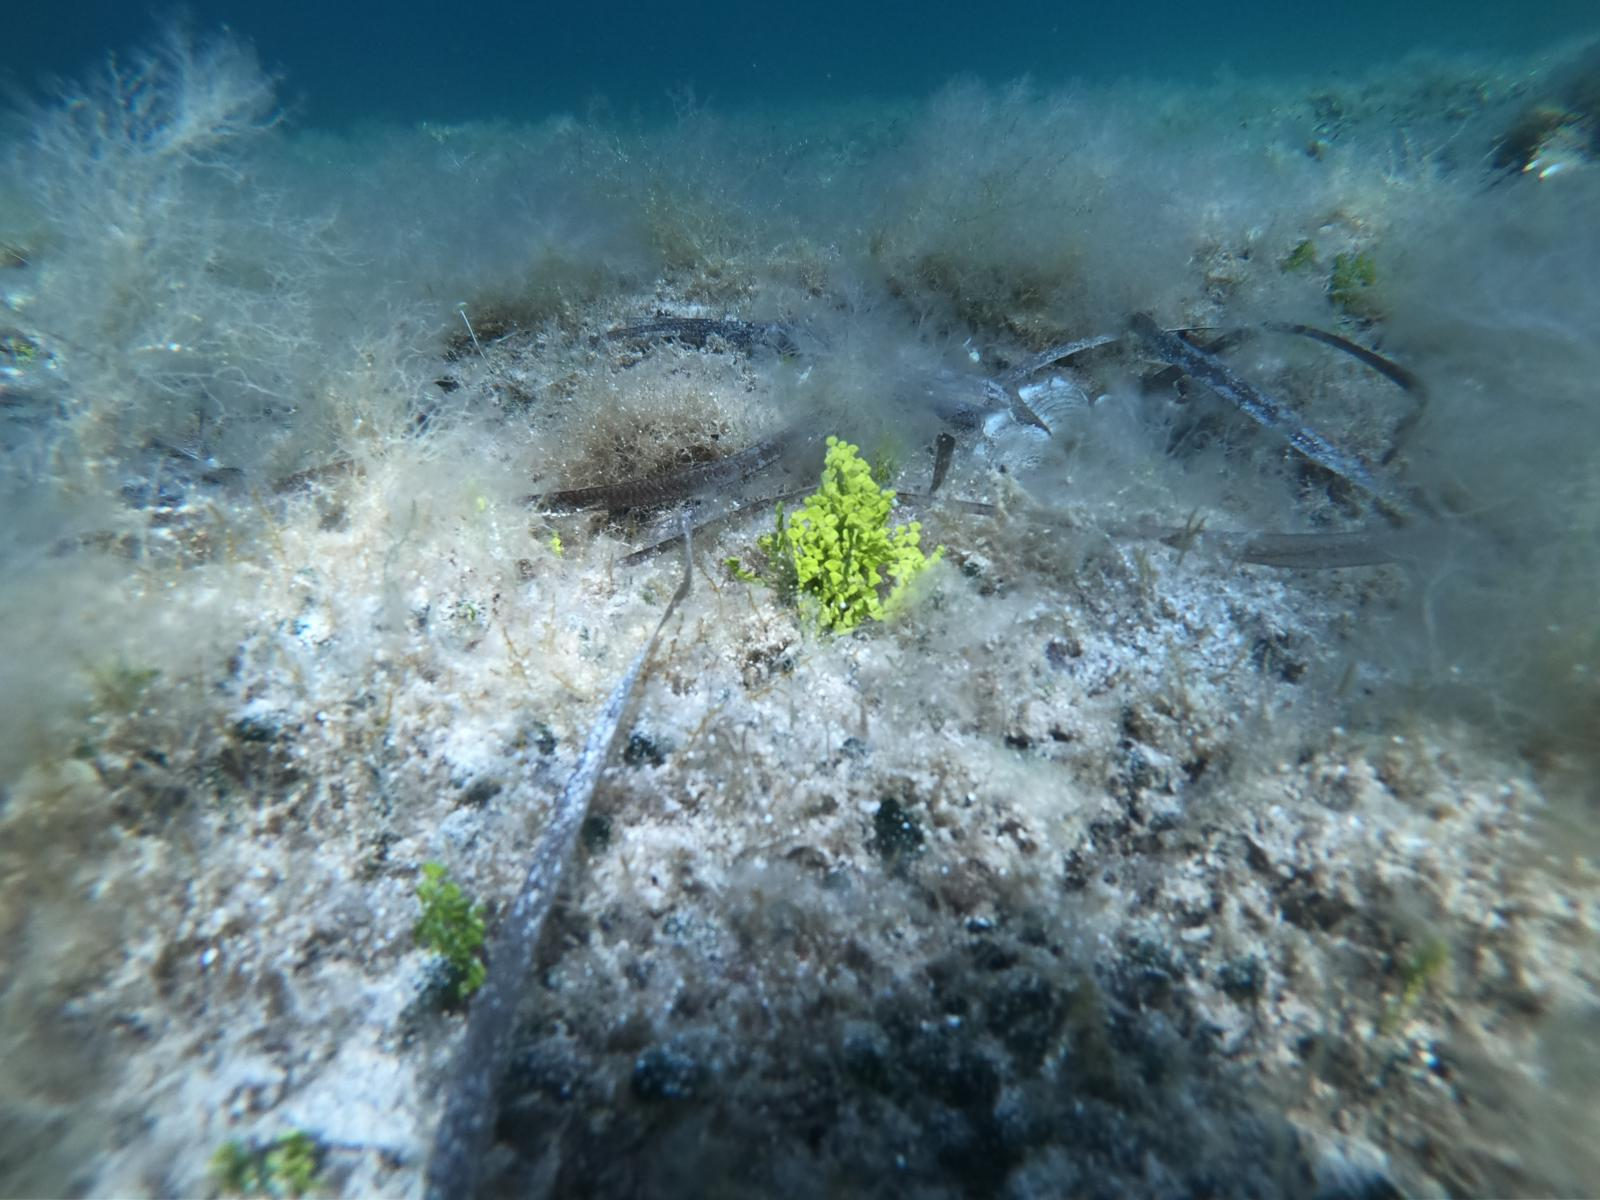halimeda: (760, 430, 942, 630), (413, 856, 488, 995)
